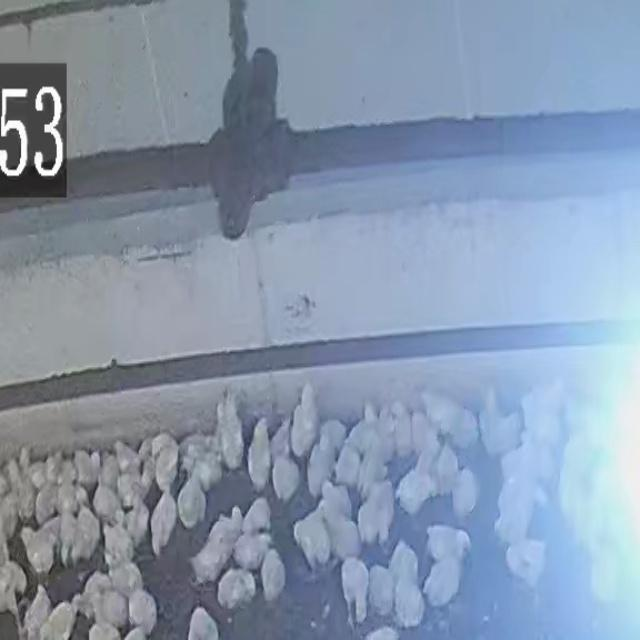chicken: (18, 526, 58, 587), (523, 382, 564, 441), (359, 480, 396, 544), (244, 415, 272, 494), (322, 506, 364, 558), (506, 540, 549, 590), (424, 557, 465, 608), (396, 458, 432, 516), (294, 512, 328, 571), (185, 535, 224, 585), (20, 583, 54, 639), (502, 444, 552, 482), (219, 397, 245, 470), (339, 561, 368, 626), (178, 469, 208, 529), (303, 442, 335, 498), (355, 445, 390, 496), (210, 504, 243, 558), (426, 523, 472, 561), (484, 394, 515, 450), (293, 387, 318, 456), (71, 506, 100, 564), (345, 402, 380, 450), (86, 485, 126, 526), (500, 477, 548, 511), (102, 554, 144, 592), (152, 491, 176, 557), (232, 533, 276, 569), (392, 575, 422, 627), (38, 601, 76, 640), (150, 436, 177, 490), (433, 443, 460, 496), (495, 502, 532, 540), (261, 547, 287, 601), (320, 481, 356, 520), (99, 520, 134, 560), (72, 577, 107, 617), (216, 571, 254, 607), (389, 538, 420, 582), (451, 468, 478, 516), (272, 456, 300, 502), (422, 389, 451, 433), (126, 495, 150, 547), (365, 405, 391, 453), (368, 566, 392, 615), (128, 592, 158, 631), (187, 605, 220, 640), (392, 403, 413, 455), (452, 412, 480, 451), (92, 592, 124, 626), (182, 433, 214, 467), (241, 498, 272, 533), (198, 450, 225, 488), (411, 413, 437, 450), (16, 474, 34, 526), (1, 482, 17, 539), (336, 447, 360, 485), (75, 448, 97, 489), (113, 440, 139, 473), (59, 515, 75, 567), (37, 483, 58, 522), (273, 416, 290, 458), (101, 450, 116, 488), (59, 484, 76, 516), (88, 623, 120, 640), (322, 424, 342, 449), (45, 451, 60, 484), (29, 462, 49, 486), (59, 460, 77, 486), (5, 456, 16, 487), (20, 442, 30, 476), (125, 629, 149, 640)
